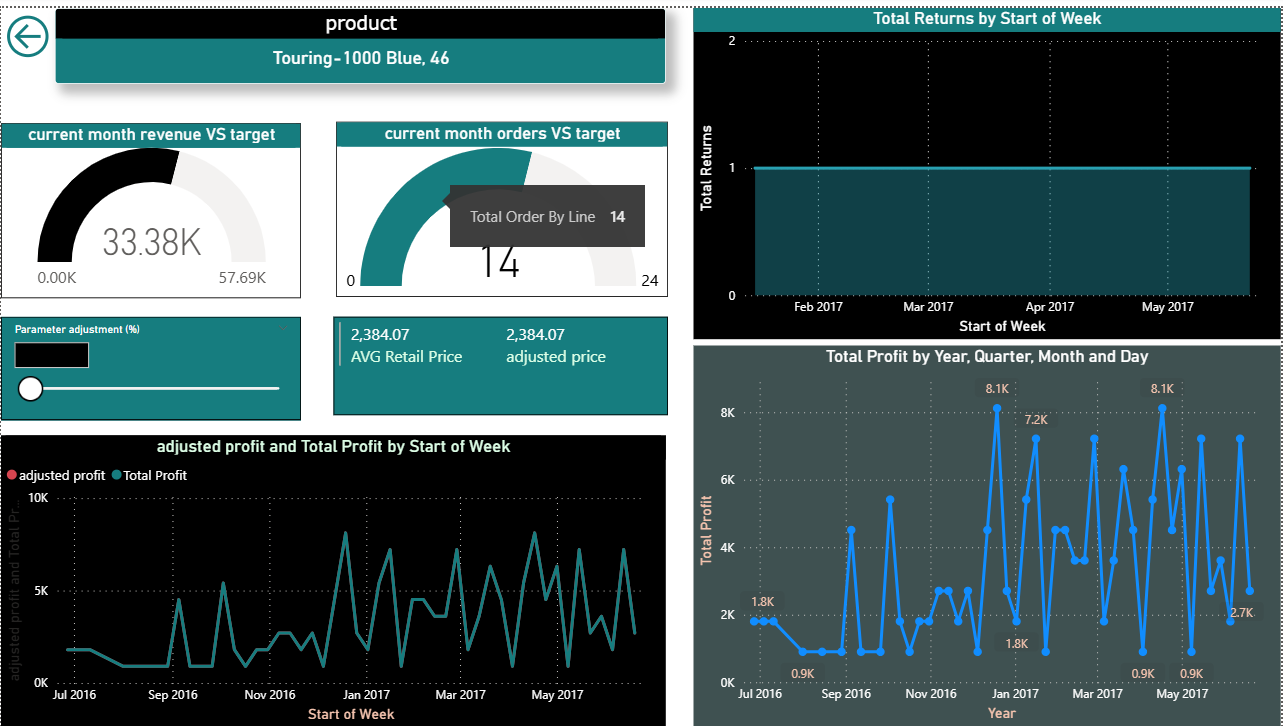

What the dashboard file says about the page in this screenshot:
{"tool":"powerbi","page":{"name":"product details","canvas":[1280,720],"ordinal":1},"visuals":[{"type":"lineChart","fields":{"Y":["A measure Table.Total Profit"],"Category":["Calendar_Lookup.Start of Week.Variation.Date Hierarchy.Year","Calendar_Lookup.Start of Week.Variation.Date Hierarchy.Quarter","Calendar_Lookup.Start of Week.Variation.Date Hierarchy.Month","Calendar_Lookup.Start of Week.Variation.Date Hierarchy.Day"]},"box":[692.5,338,587.5,380.8],"z":0},{"type":"areaChart","fields":{"Y":["A measure Table.Total Returns"],"Category":["Calendar_Lookup.Start of Week"]},"box":[692.5,0,587.5,331.2],"z":1000},{"type":"gauge","title":"current month orders VS target","fields":{"Y":["A measure Table.Total Order By Line"],"MaxValue":["A measure Table.Order Target"]},"box":[335,114,332,175],"z":2000},{"type":"gauge","title":"current month revenue VS target","fields":{"Y":["A measure Table.Total revenue Measure"],"MaxValue":["A measure Table.Revenue target"]},"box":[0,115,300,175],"z":3000},{"type":"card","title":"product","fields":{"Values":["Min(Products_Lookup.ProductName)"]},"box":[54,0,611,76],"z":4000},{"type":"actionButton","box":[0,0,53.8,56.2],"z":5000},{"type":"slicer","fields":{"Values":["Parameter adjustment (%).Parameter adjustment (%)"]},"box":[0,309,300,103],"z":6000},{"type":"multiRowCard","fields":{"Values":["A measure Table.AVG Retail Price","A measure Table.adjusted price"]},"box":[333,309,334,98],"z":7000},{"type":"lineChart","fields":{"Y":["A measure Table.adjusted profit","A measure Table.Total Profit"],"Category":["Calendar_Lookup.Start of Week"]},"box":[0,427.5,665,291.2],"z":8000}]}

Visuals, with their boxes in screenshot pixels (x1, y1, x2, y2), scaled from the page's 1280x720 canvas onto the 1283x726 screenshot:
lineChart - A measure Table.Total Profit x Calendar_Lookup.Start of Week.Variation.Date Hierarchy.Year: rect(694, 341, 1282, 725)
areaChart - A measure Table.Total Returns x Calendar_Lookup.Start of Week: rect(694, 0, 1282, 334)
"current month orders VS target" gauge: rect(336, 115, 669, 291)
"current month revenue VS target" gauge: rect(0, 116, 301, 292)
"product" card: rect(54, 0, 667, 77)
actionButton: rect(0, 0, 54, 57)
slicer - Parameter adjustment (%).Parameter adjustment (%): rect(0, 312, 301, 415)
multiRowCard - A measure Table.AVG Retail Price x A measure Table.adjusted price: rect(334, 312, 669, 410)
lineChart - A measure Table.adjusted profit x A measure Table.Total Profit: rect(0, 431, 667, 725)
